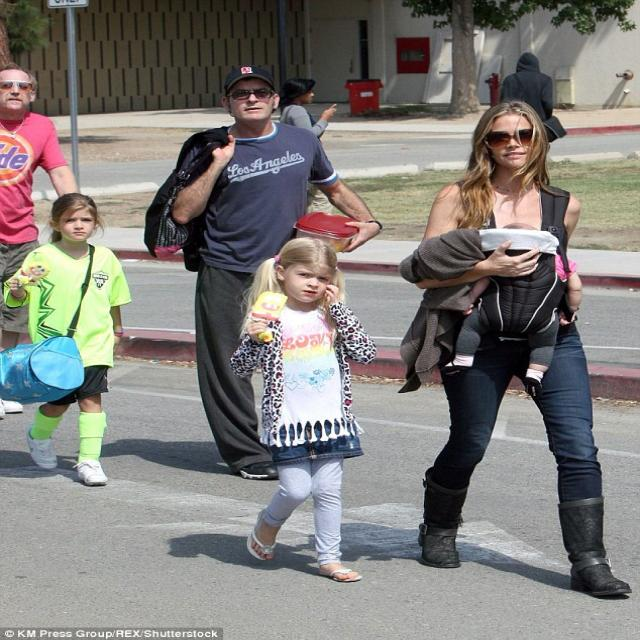body: (393, 96, 636, 602), (137, 60, 385, 483), (223, 234, 381, 585), (0, 189, 135, 491), (0, 61, 82, 419), (499, 51, 555, 125), (275, 76, 339, 139)
